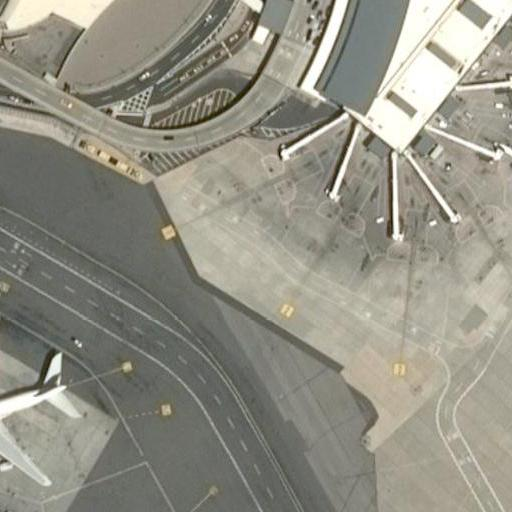Aircraft: (0, 310, 81, 491), (497, 126, 512, 190)
